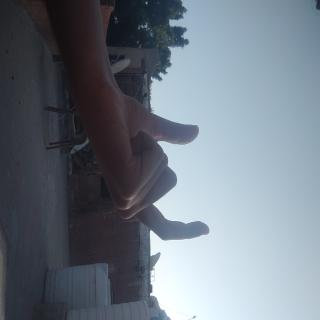NOON: (51, 134, 187, 318)
